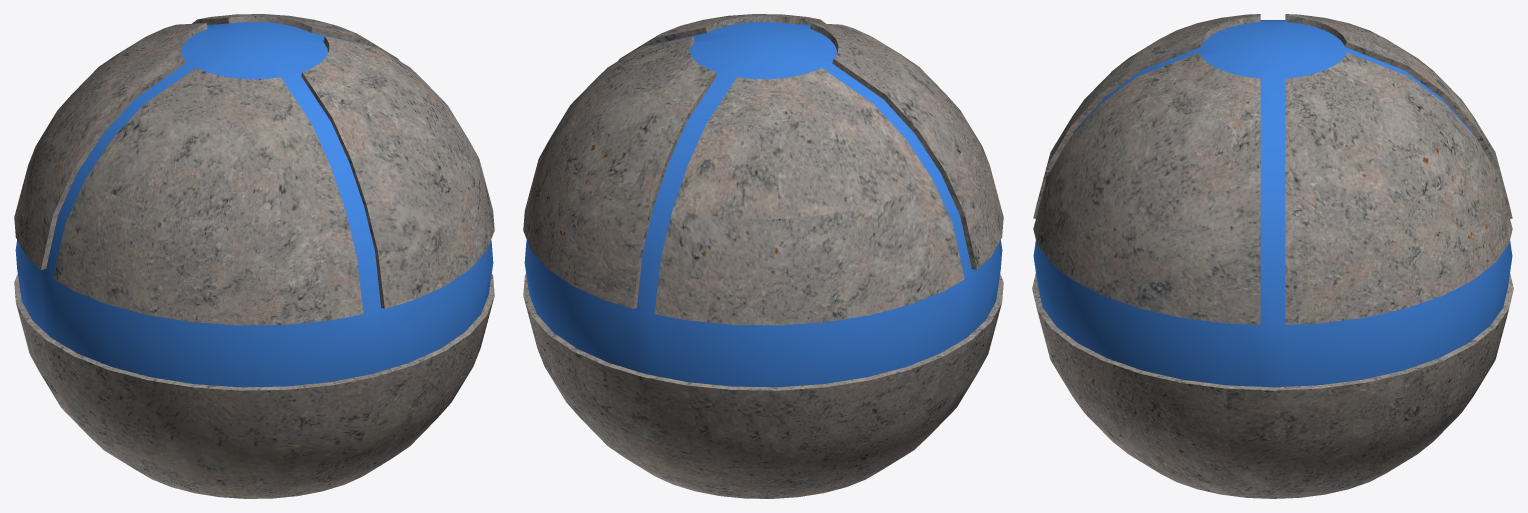
The model's file is OrbKey.fbx.
3 views of the same model, side by side, from view 1: azimuth 30°, elevation 25°; view 2: azimuth 150°, elevation 25°; view 3: azimuth 270°, elevation 25° (orthographic).
Visible parts, largest first — view 1: orb_key; view 2: orb_key; view 3: orb_key.
Boxes of the visible parts, x1,y1,x2,y2 form: orb_key: [14, 14, 494, 498]; orb_key: [523, 14, 1003, 498]; orb_key: [1032, 14, 1513, 498].
Size of the model in its own units: 1.96 by 1.92 by 1.96.
